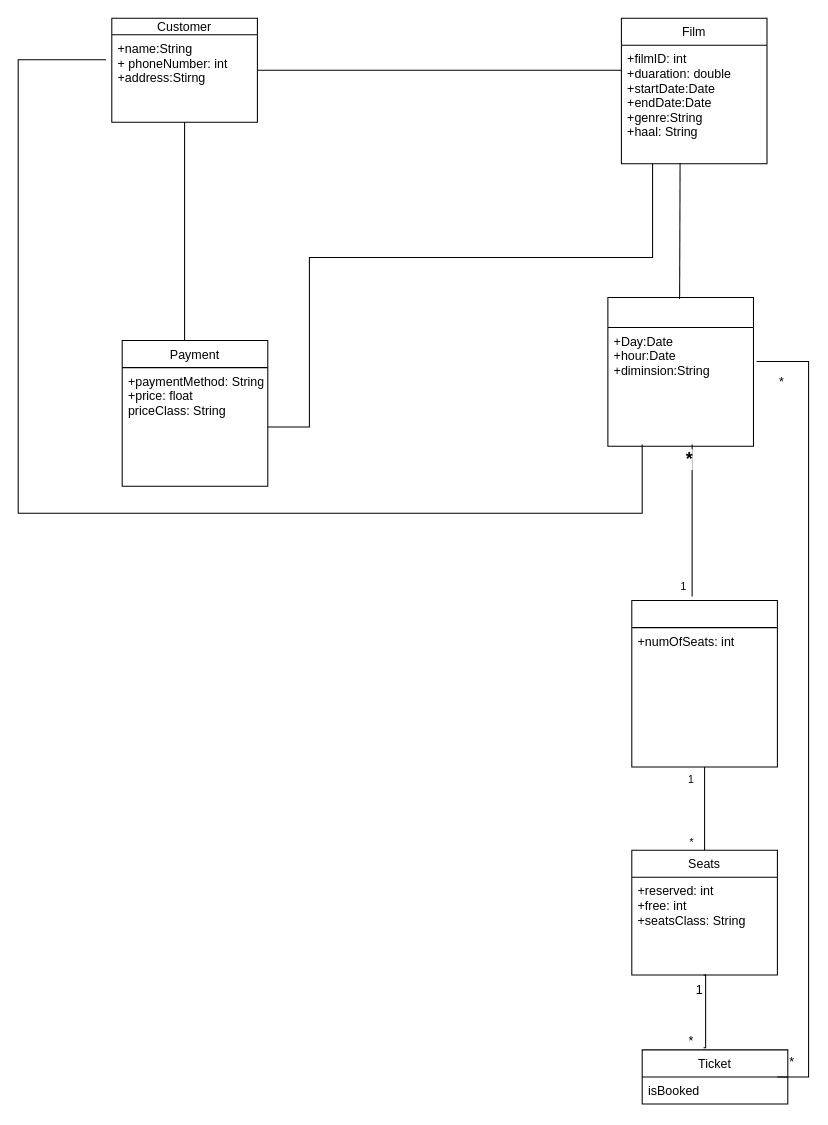
Some shapes in this 828 by 1125 pixel diagram are drawn without their labels. The box of each missing label's shape, as (x1, y1, x2, y2) in pixels:
Hall: (631, 600, 777, 767)
Show: (607, 296, 753, 446)
